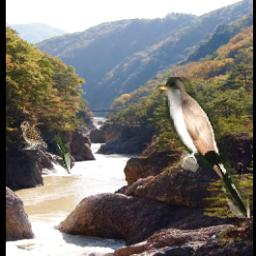Cuckoo: (157, 77, 251, 218), (53, 132, 71, 174)
Sparrow: (20, 122, 47, 151)
